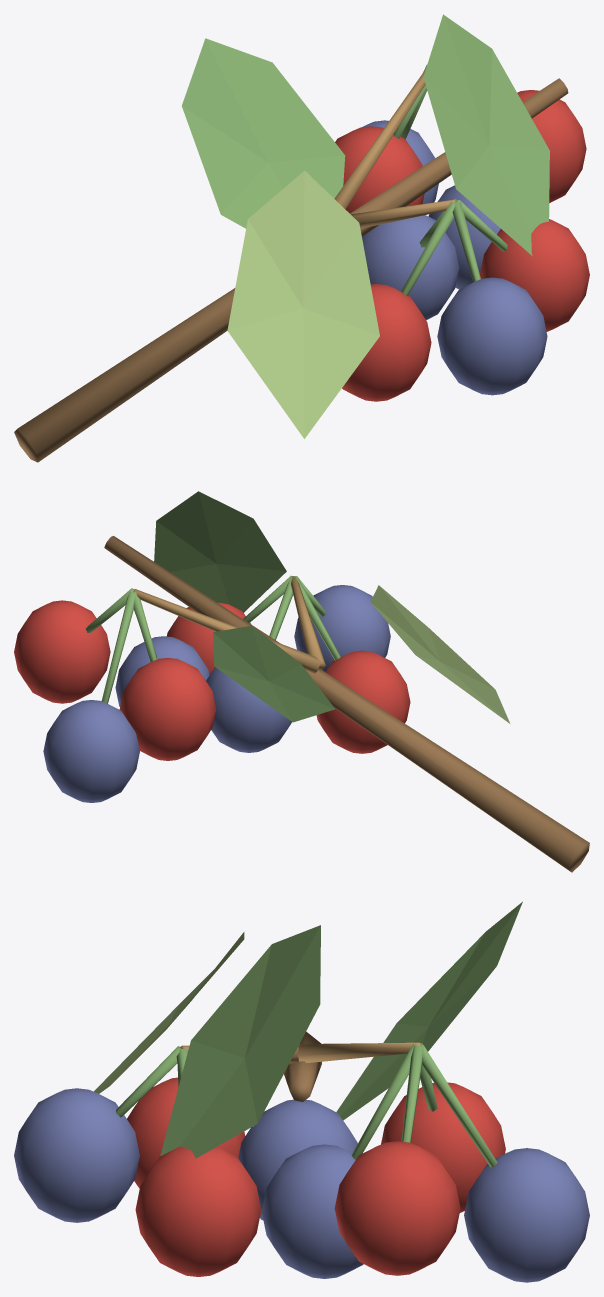
Rendered from berries.glb.
3 views of the same model, one above another, from view 1: azimuth 30°, elevation 25°; view 2: azimuth 150°, elevation 25°; view 3: azimuth 270°, elevation 25° (orthographic). The views are drawn at different scales.
Visible parts, largest first — view 1: pickup_leaf_0, pickup_leaf_1, pickup_leaf_2, berry_main_twig, pickup_cluster_0_berry_3, pickup_cluster_0_berry_0, pickup_cluster_0_berry_2, pickup_cluster_0_berry_1, pickup_cluster_1_berry_2, pickup_cluster_1_berry_0, pickup_cluster_1_berry_3, berry_side_1 (+5 smaller); view 2: berry_main_twig, pickup_leaf_2, pickup_cluster_1_berry_1, pickup_cluster_1_berry_0, pickup_cluster_1_berry_2, pickup_leaf_1, pickup_cluster_0_berry_2, pickup_cluster_0_berry_3, pickup_cluster_0_berry_1, pickup_leaf_0, pickup_cluster_1_berry_3, berry_side_1 (+6 smaller); view 3: pickup_leaf_2, pickup_cluster_1_berry_0, pickup_cluster_0_berry_3, pickup_cluster_1_berry_1, pickup_cluster_0_berry_0, pickup_cluster_1_berry_3, pickup_leaf_1, pickup_cluster_1_berry_2, pickup_cluster_0_berry_1, pickup_cluster_0_berry_2, berry_side_1, pickup_leaf_0 (+5 smaller).
Boxes of the visible parts, box(x1,y1,x2,y2) form: pickup_leaf_0: box(227, 170, 379, 438); pickup_leaf_1: box(182, 38, 345, 228); pickup_leaf_2: box(423, 14, 549, 256); berry_main_twig: box(14, 78, 568, 462); pickup_cluster_0_berry_3: box(437, 277, 547, 395); pickup_cluster_0_berry_0: box(480, 219, 589, 331); pickup_cluster_0_berry_2: box(342, 284, 431, 401); pickup_cluster_0_berry_1: box(362, 215, 459, 320); pickup_cluster_1_berry_2: box(335, 126, 424, 213); pickup_cluster_1_berry_0: box(517, 90, 586, 203); pickup_cluster_1_berry_3: box(428, 185, 500, 289); berry_side_1: box(334, 69, 425, 209); berry_main_twig: box(104, 536, 589, 872); pickup_leaf_2: box(154, 491, 286, 612); pickup_cluster_1_berry_1: box(43, 700, 139, 802); pickup_cluster_1_berry_0: box(14, 600, 110, 703); pickup_cluster_1_berry_2: box(119, 658, 216, 760); pickup_leaf_1: box(213, 625, 334, 722); pickup_cluster_0_berry_2: box(316, 650, 410, 753); pickup_cluster_0_berry_3: box(294, 585, 390, 671); pickup_cluster_0_berry_1: box(206, 667, 291, 752); pickup_leaf_0: box(370, 585, 510, 723); pickup_cluster_1_berry_3: box(115, 636, 209, 706); berry_side_1: box(133, 589, 320, 673); pickup_leaf_2: box(160, 925, 320, 1158); pickup_cluster_1_berry_0: box(334, 1141, 460, 1275); pickup_cluster_0_berry_3: box(14, 1088, 139, 1222); pickup_cluster_1_berry_1: box(464, 1148, 589, 1282); pickup_cluster_0_berry_0: box(135, 1146, 261, 1276); pickup_cluster_1_berry_3: box(261, 1144, 363, 1278); pickup_leaf_1: box(336, 901, 522, 1120); pickup_cluster_1_berry_2: box(381, 1082, 505, 1212); pickup_cluster_0_berry_1: box(238, 1099, 357, 1220); pickup_cluster_0_berry_2: box(127, 1077, 245, 1188); berry_side_1: box(297, 1042, 421, 1062); pickup_leaf_0: box(94, 932, 244, 1093).
Bounding box in the file's own units: 0.3027 × 0.1623 × 0.2195.
